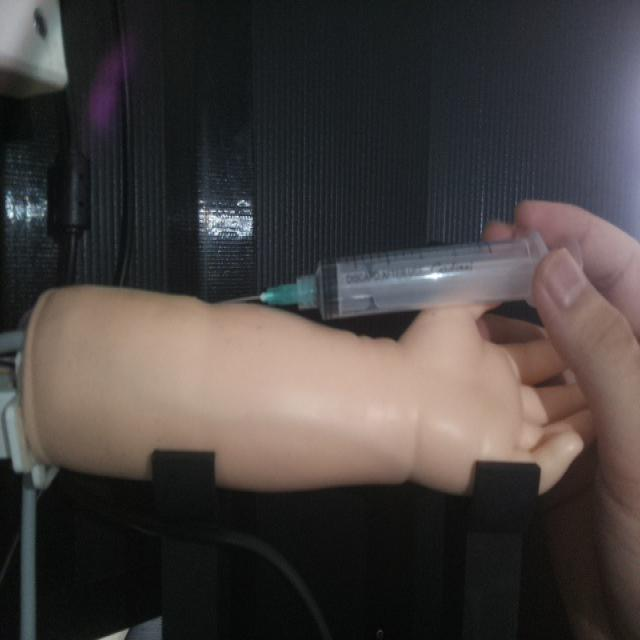Outside: (218, 226, 589, 322)
